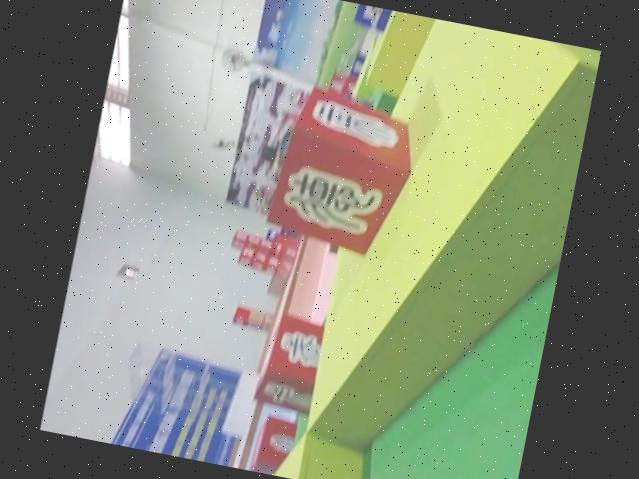R2 Fake: (265, 81, 430, 259), (252, 312, 340, 413)
